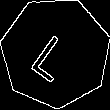L_NE: (28, 23, 83, 82)
